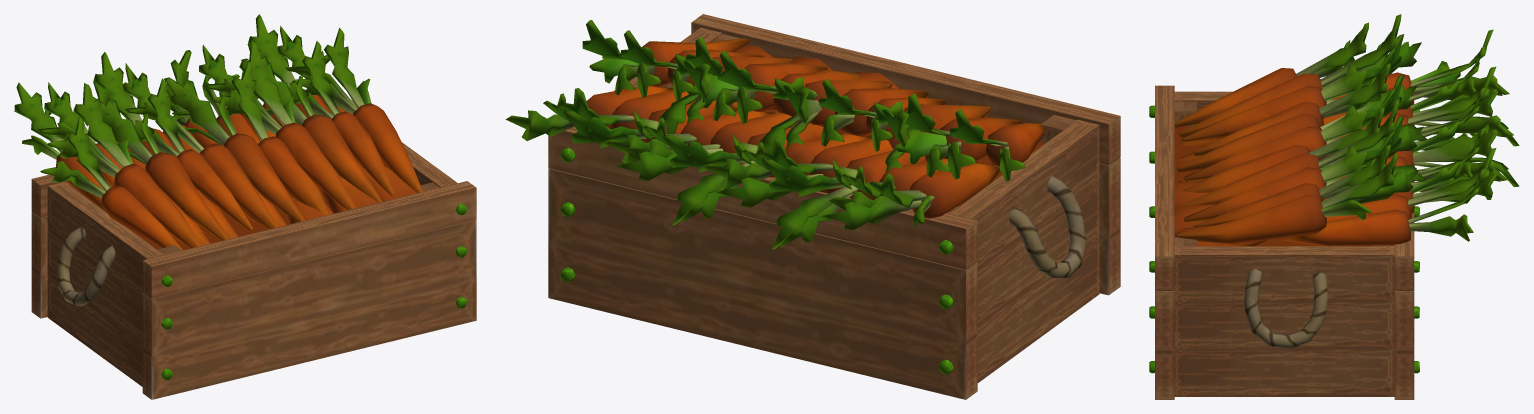
File: FarmCrate Carrot.glb
The picture shows the model from 3 angles, left to right: view 1: azimuth 30°, elevation 25°; view 2: azimuth 150°, elevation 25°; view 3: azimuth 270°, elevation 25°; orthographic projection. The views are drawn at different scales.
Parts seen in each view (by area): view 1: FarmCrate_Carrot; view 2: FarmCrate_Carrot; view 3: FarmCrate_Carrot.
Part boxes in pixels (left/top/right/bottom): FarmCrate_Carrot: left=14, top=14, right=476, bottom=399; FarmCrate_Carrot: left=506, top=14, right=1120, bottom=399; FarmCrate_Carrot: left=1149, top=14, right=1519, bottom=399.
Bounding box in the file's own units: 0.7138 × 0.4113 × 0.567.
3 materials, 3 textured.
